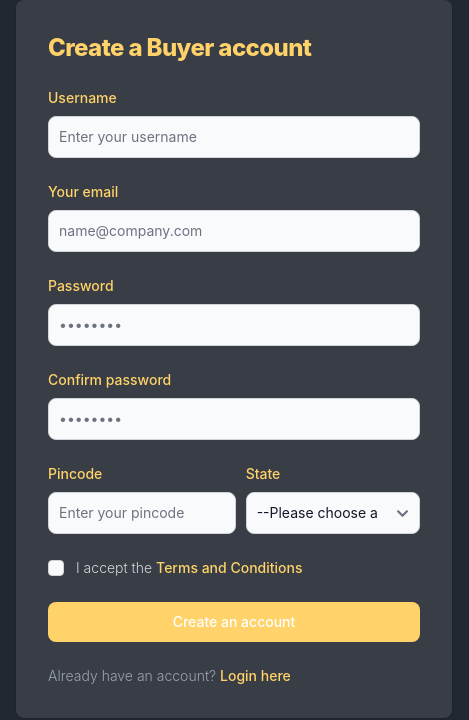
Test: SignupBuyer Component › shows validation error for invalid password
Step 1. Type "weak" into the password field labelled "Password" → (234, 325), box x1=48 y1=304 x2=420 y2=346
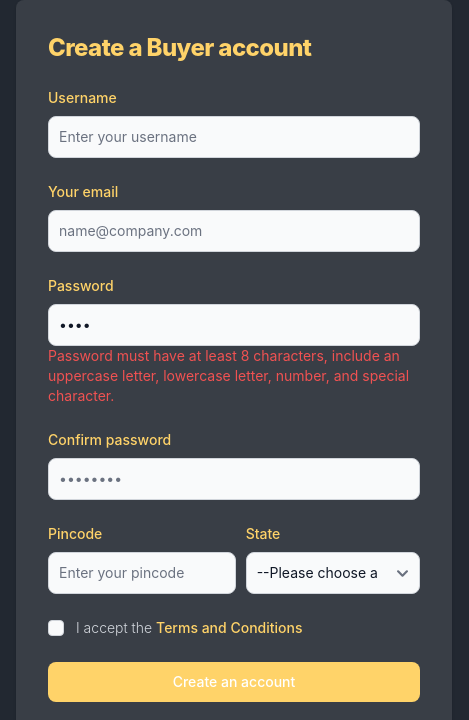
Check: the text "Password must have at least 8 characters" is shown, box x1=48 y1=347 x2=409 y2=404
